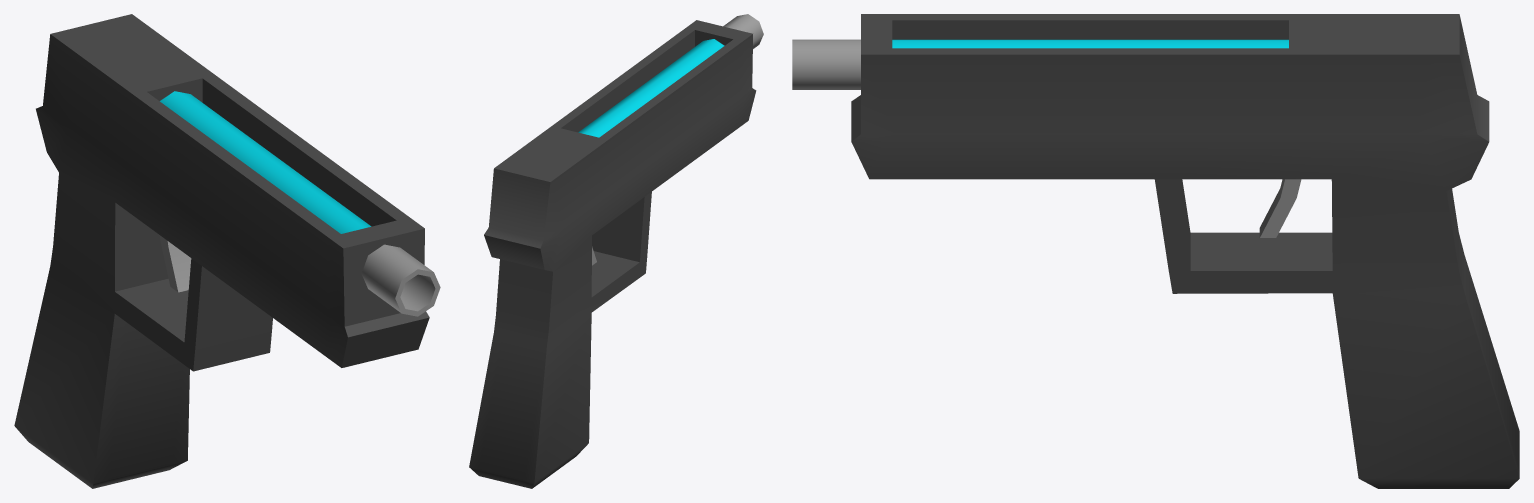
The model's file is Modeling_Pistolet.fbx.
3 renders of one model, left to right at view 1: azimuth 30°, elevation 25°; view 2: azimuth 150°, elevation 25°; view 3: azimuth 270°, elevation 25°, orthographic. The views are drawn at different scales.
Visible parts, largest first — view 1: Base_pistolet, tube_electrique_pistolet, canon_pistolet, Gachette_pistolet; view 2: Base_pistolet, tube_electrique_pistolet, canon_pistolet; view 3: Base_pistolet, tube_electrique_pistolet, canon_pistolet, Gachette_pistolet.
Part boxes in pixels (x1,y1,x2,y2): Base_pistolet: [14, 14, 429, 488]; tube_electrique_pistolet: [160, 91, 371, 233]; canon_pistolet: [361, 244, 440, 316]; Gachette_pistolet: [159, 235, 191, 292]; Base_pistolet: [469, 20, 756, 488]; tube_electrique_pistolet: [578, 39, 724, 137]; canon_pistolet: [723, 14, 763, 48]; Base_pistolet: [851, 14, 1519, 488]; tube_electrique_pistolet: [892, 39, 1288, 48]; canon_pistolet: [792, 39, 860, 89]; Gachette_pistolet: [1259, 179, 1301, 237].
Size of the model in its own units: 7.72 by 33.26 by 50.36.
